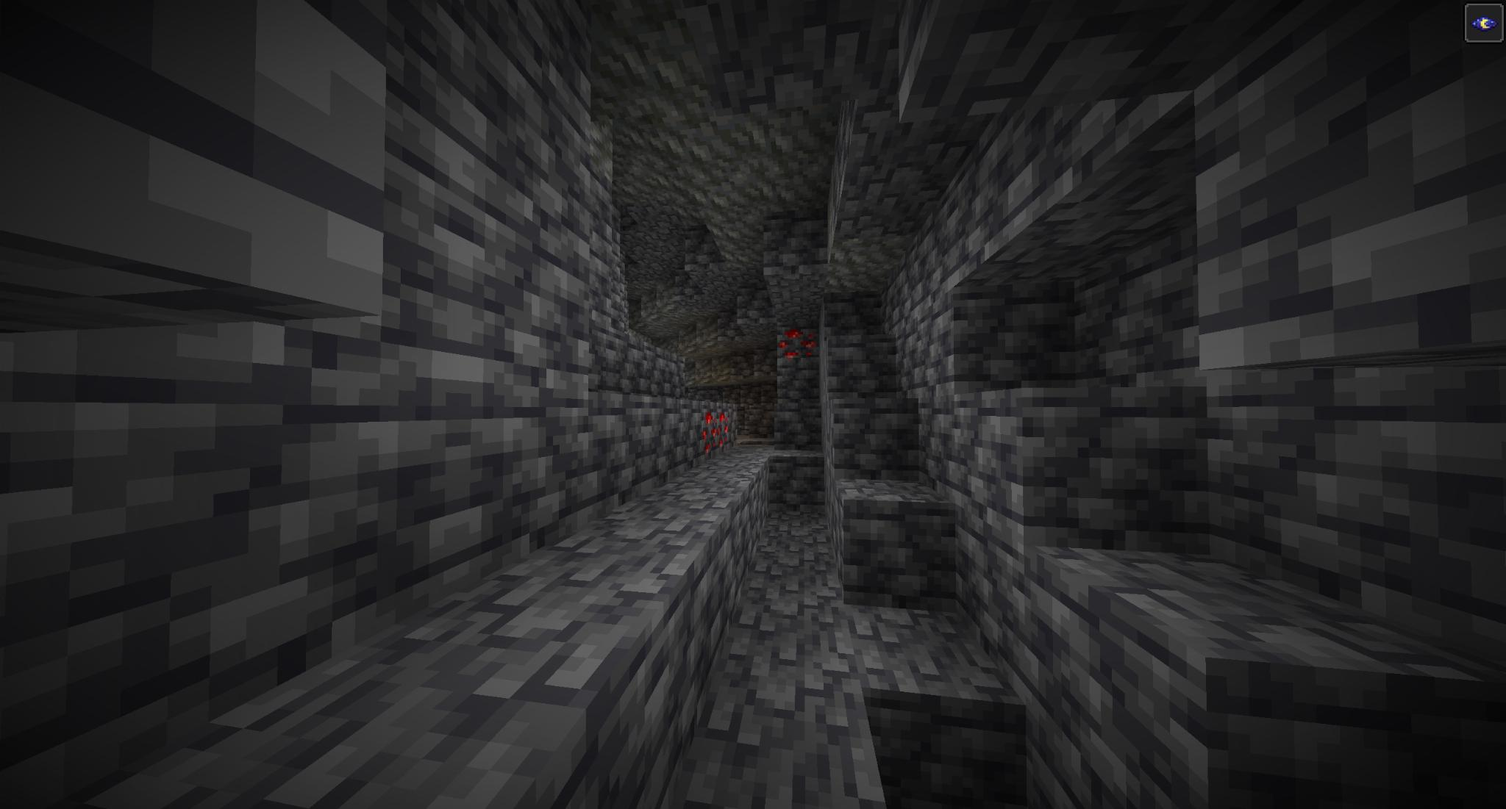redstone ore: (777, 323, 815, 363), (700, 412, 731, 455)
